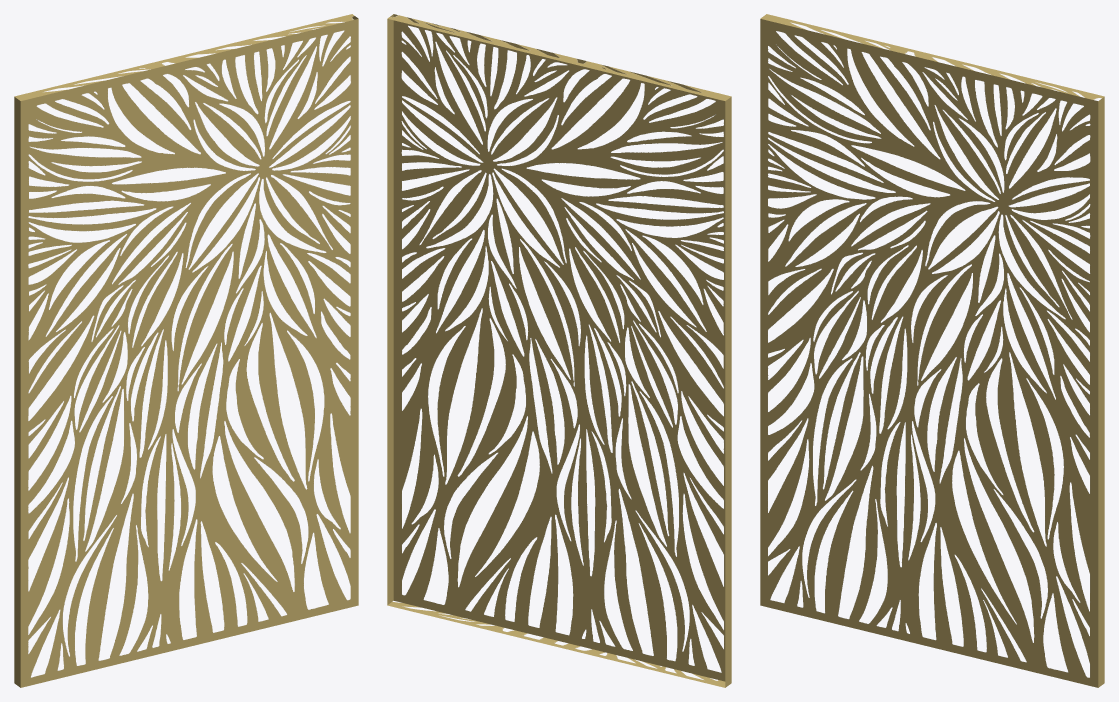
Rendered from wanddeko.dae.
3 views of the same model, side by side, from view 1: azimuth 30°, elevation 25°; view 2: azimuth 150°, elevation 25°; view 3: azimuth 330°, elevation 25° (orthographic).
Visible parts, largest first — view 1: image_0, SketchUp; view 2: image_0, SketchUp; view 3: image_0, SketchUp.
Boxes of the visible parts, x1=… form: image_0: x1=20, y1=19, x2=358, y2=687; SketchUp: x1=14, y1=14, x2=358, y2=687; image_0: x1=393, y1=14, x2=725, y2=681; SketchUp: x1=387, y1=14, x2=731, y2=687; image_0: x1=760, y1=19, x2=1098, y2=687; SketchUp: x1=760, y1=14, x2=1104, y2=687.
Bounding box in the file's own units: 23.62 × 0.7876 × 39.17.
2 materials, 2 textured.
